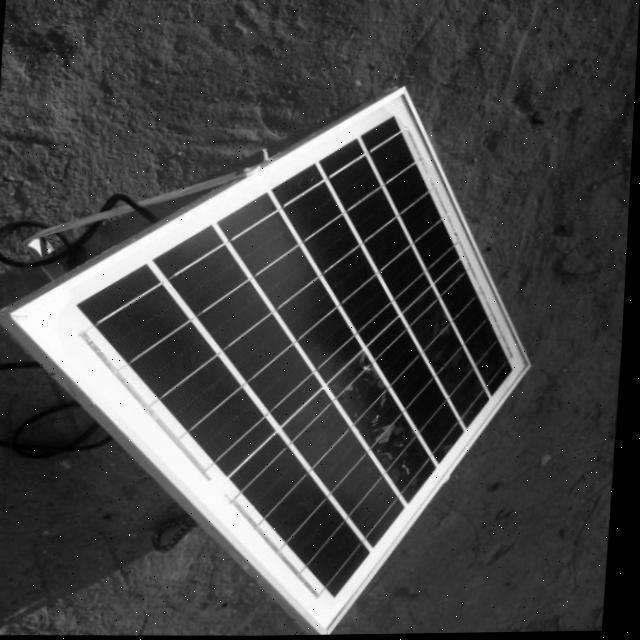Normal Solar Panel: (0, 75, 550, 640)
